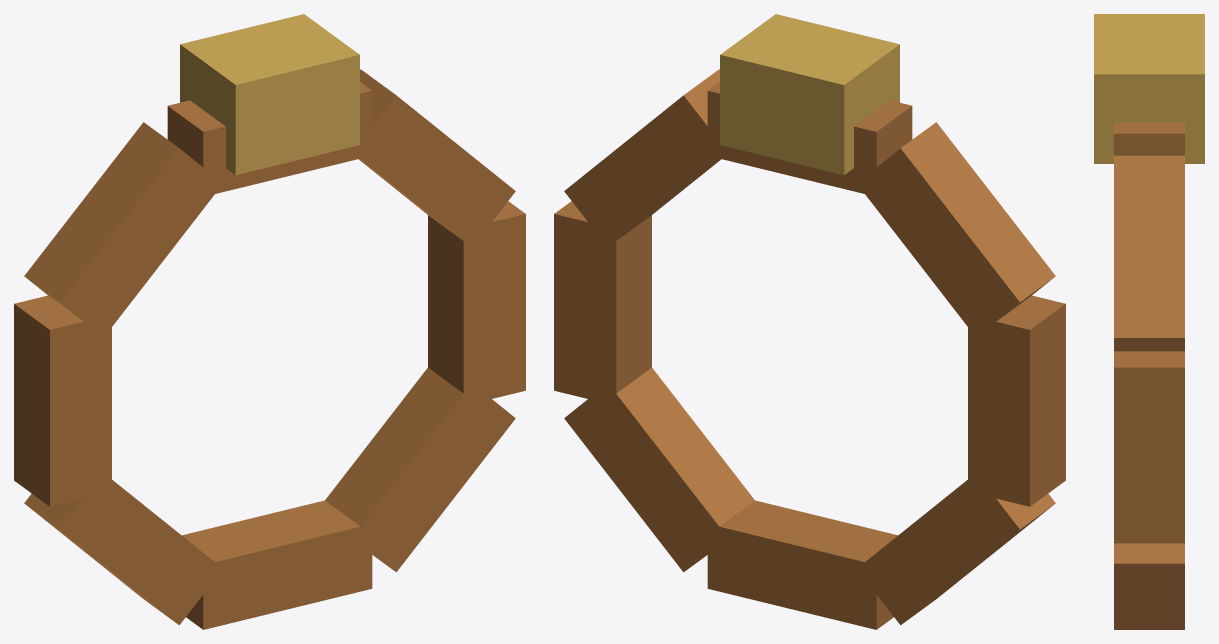
File: bronze_ring.glb
3 renders of one model, left to right at view 1: azimuth 30°, elevation 25°; view 2: azimuth 150°, elevation 25°; view 3: azimuth 270°, elevation 25°, orthographic.
Visible parts, largest first — view 1: bronze_ring; view 2: bronze_ring; view 3: bronze_ring.
Part boxes in pixels (bbox=[...]): bronze_ring: bbox=[14, 14, 525, 629]; bronze_ring: bbox=[554, 14, 1065, 629]; bronze_ring: bbox=[1094, 14, 1204, 629].
Bounding box in the file's own units: 1.38 × 1.51 × 0.28.
